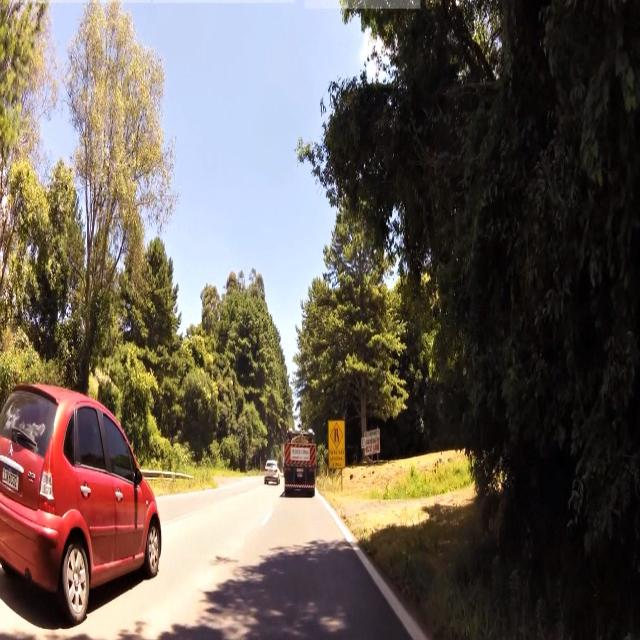A-21c: (330, 421, 346, 449)
